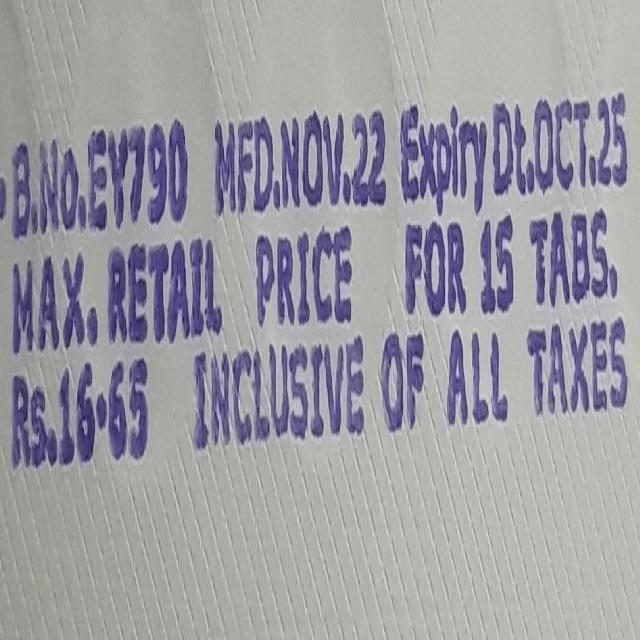sentence: (11, 187, 619, 370), (10, 304, 628, 473), (10, 89, 628, 239)
